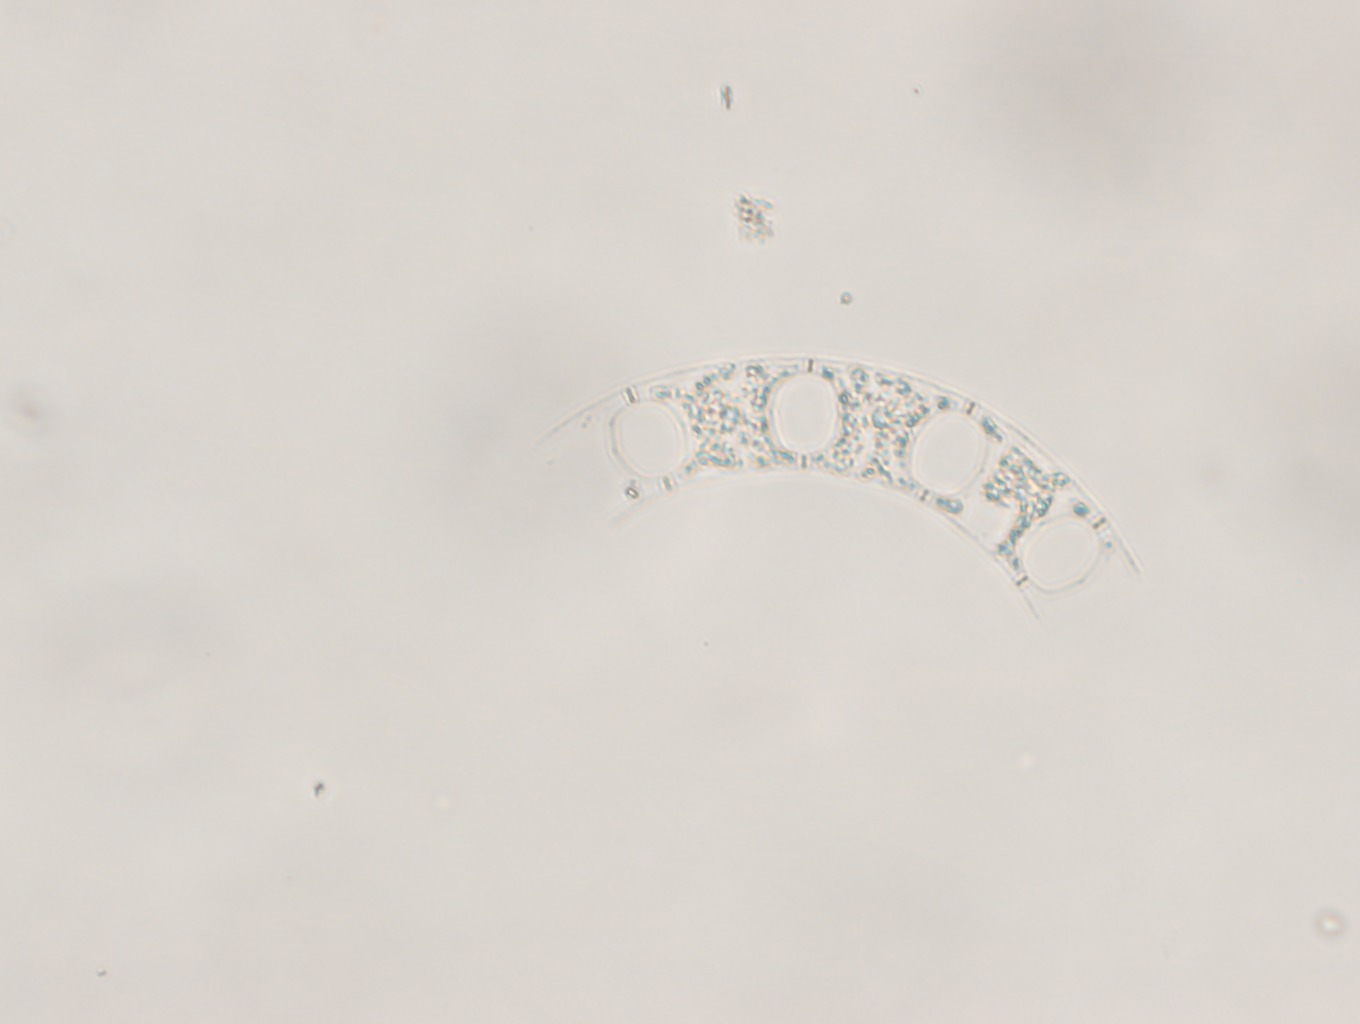eucampia: (509, 356, 1158, 648)
